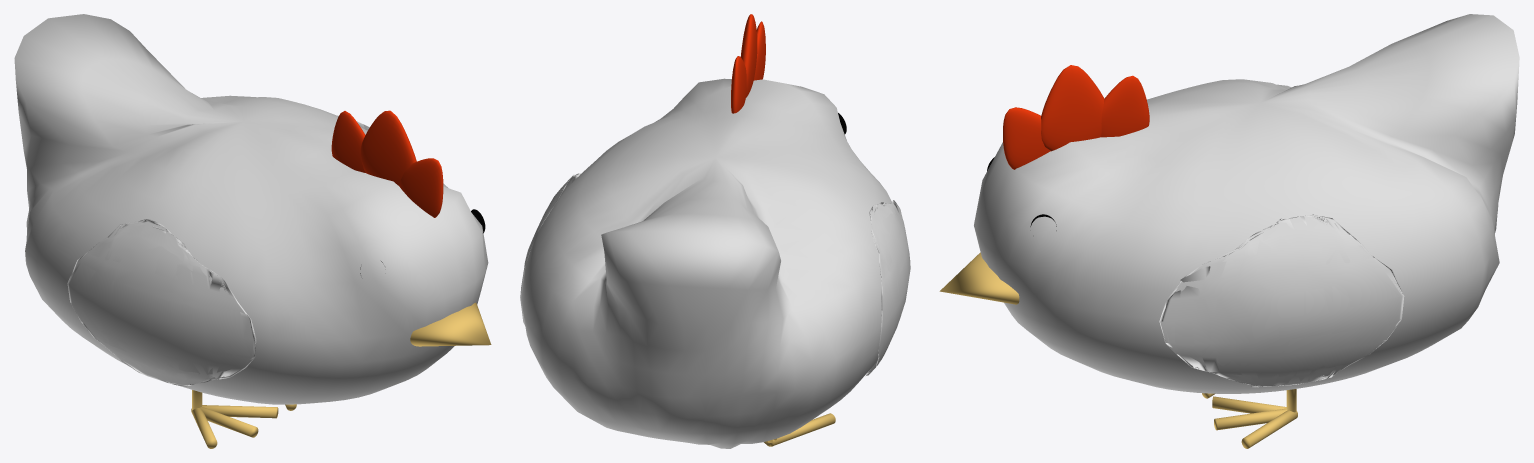
File: galinha_branca.gltf
The picture shows the model from 3 angles, left to right: view 1: azimuth 30°, elevation 25°; view 2: azimuth 150°, elevation 25°; view 3: azimuth 270°, elevation 25°; orthographic projection. The views are drawn at different scales.
Visible parts, largest first — view 1: galinha_branca; view 2: galinha_branca; view 3: galinha_branca.
Boxes of the visible parts, box(x1,y1,x2,y2) form: galinha_branca: box(14, 14, 491, 448); galinha_branca: box(520, 14, 910, 448); galinha_branca: box(939, 14, 1519, 448).
Bounding box in the file's own units: 0.6181 × 0.5879 × 0.8626.
